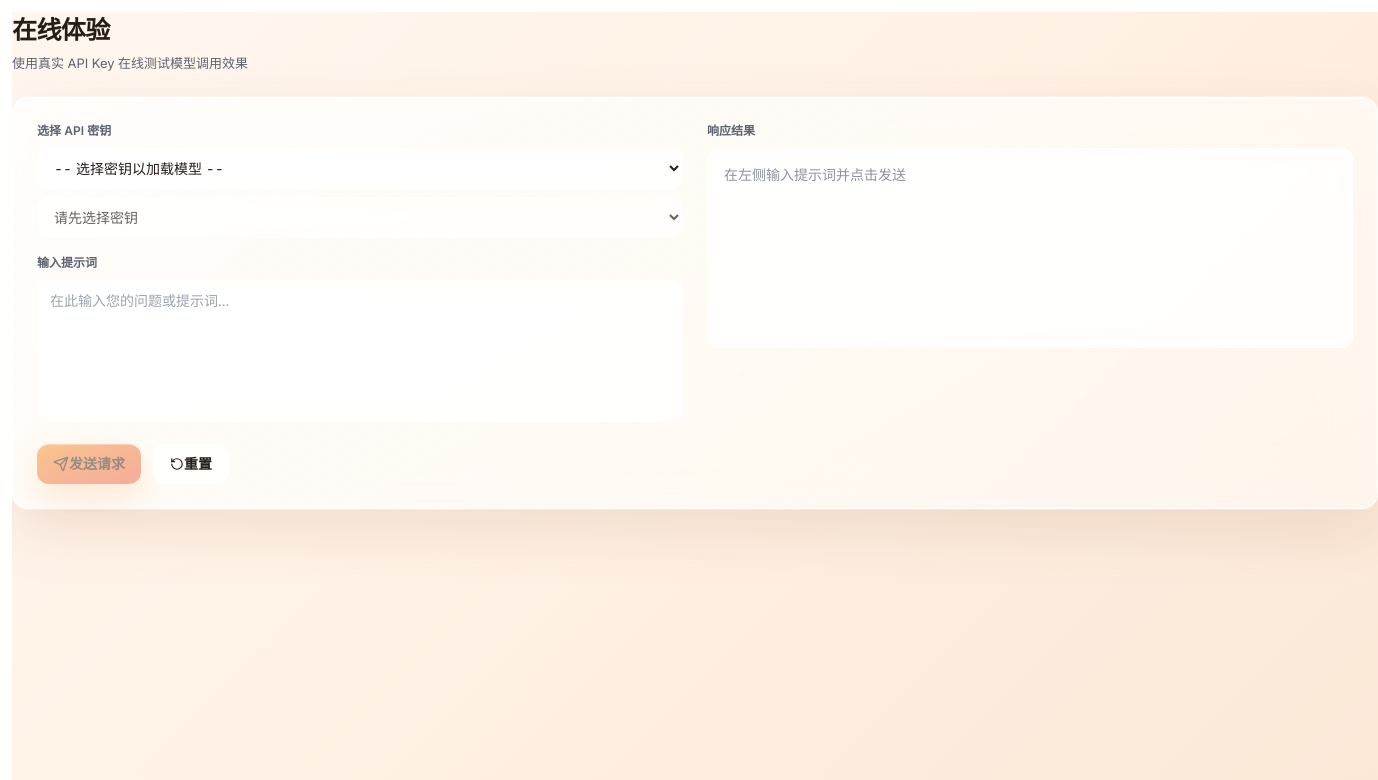
it: Playground › shows error when gateway returns error response
The width and height of the screenshot is (1378, 780).
Select "Bad Key" in the dropdown labelled "选择 API 密钥" at (360, 168), box x1=37 y1=148 x2=683 y2=189
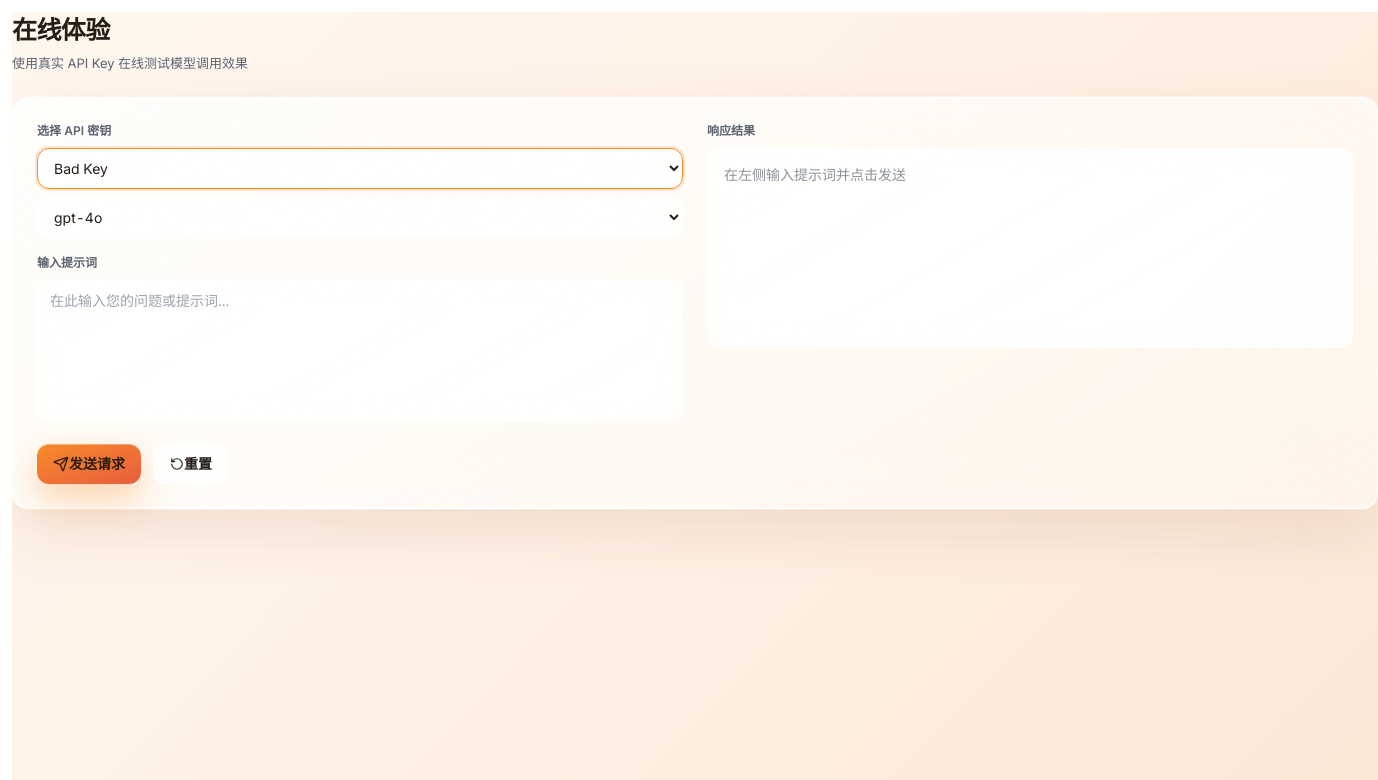
Type "test" into the text box with placeholder "在此输入您的问题或提示词..." at (360, 351), box x1=37 y1=280 x2=683 y2=422
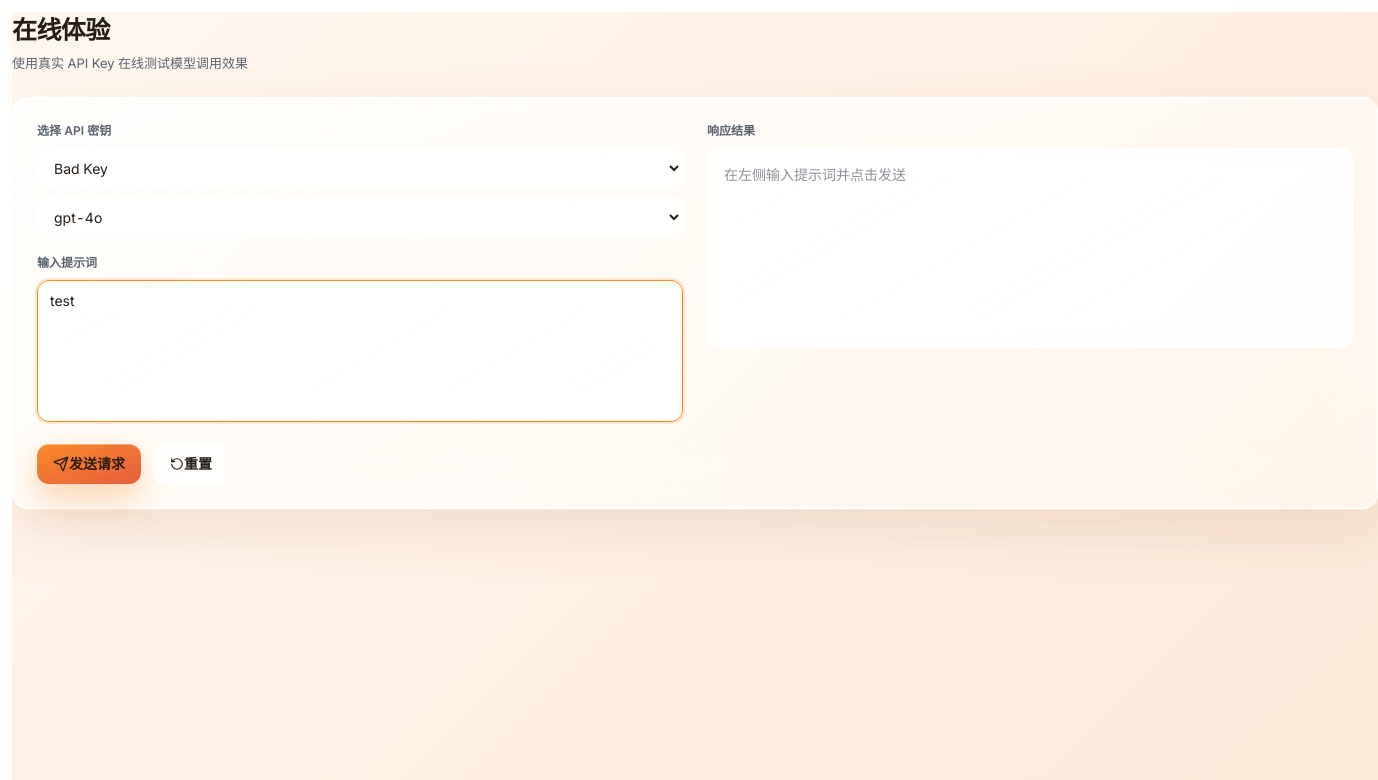
Click the button "发送请求" at (89, 464), box x1=37 y1=444 x2=141 y2=484
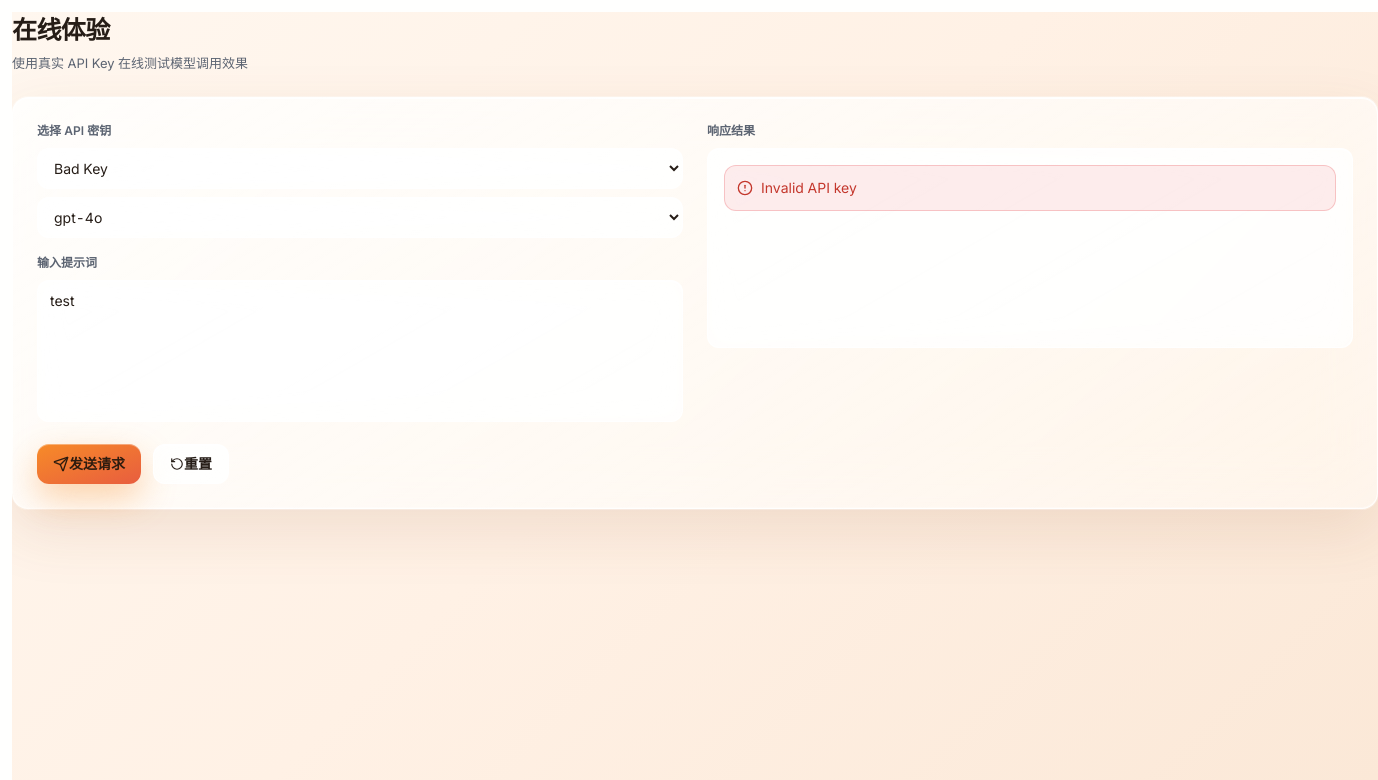
Now the text "Invalid API key" is shown, box x1=724 y1=165 x2=1336 y2=211
